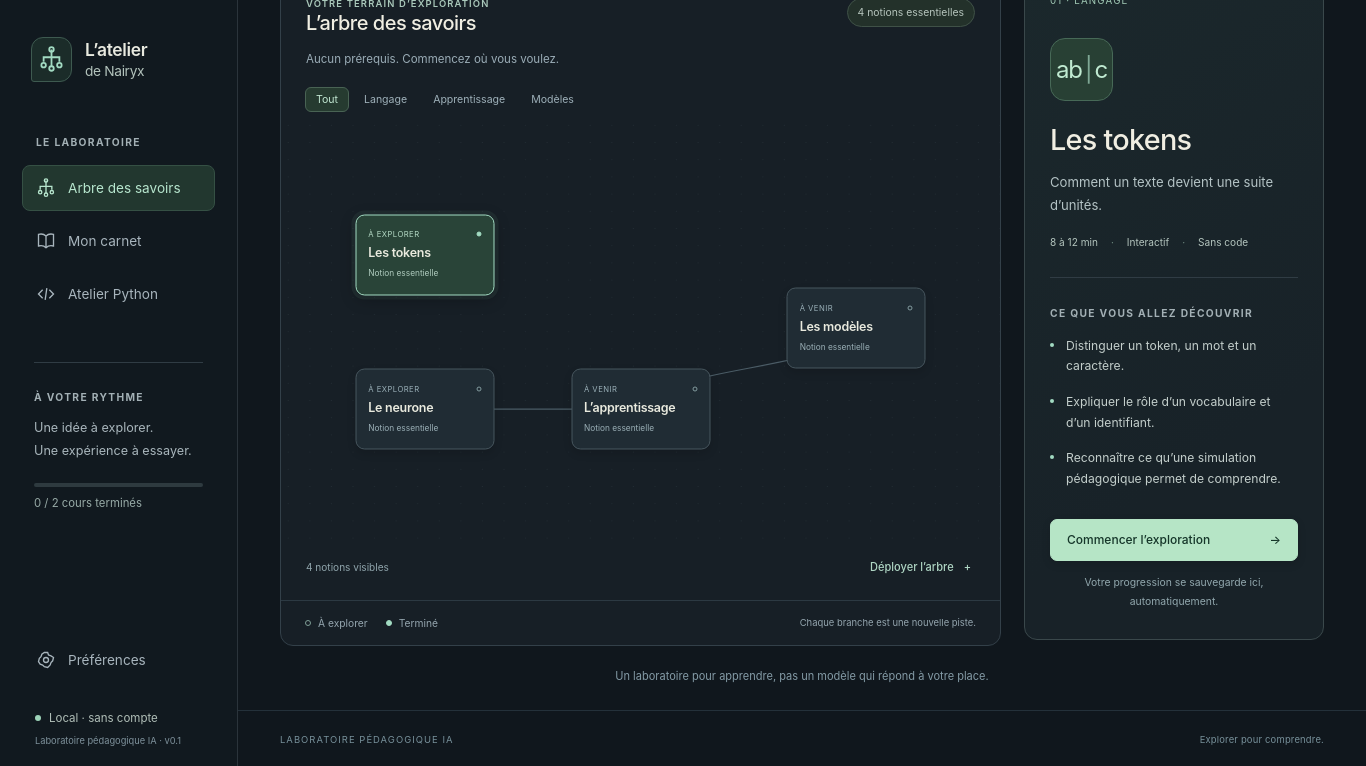
Test: ouvre le cours et retourne une carte
(page scrolled)
What coordinates should you click on to do the following:
click the button "Commencer l’exploration →"
I would click on:
 (1174, 540)
Its box is left=1050, top=520, right=1298, bottom=562.
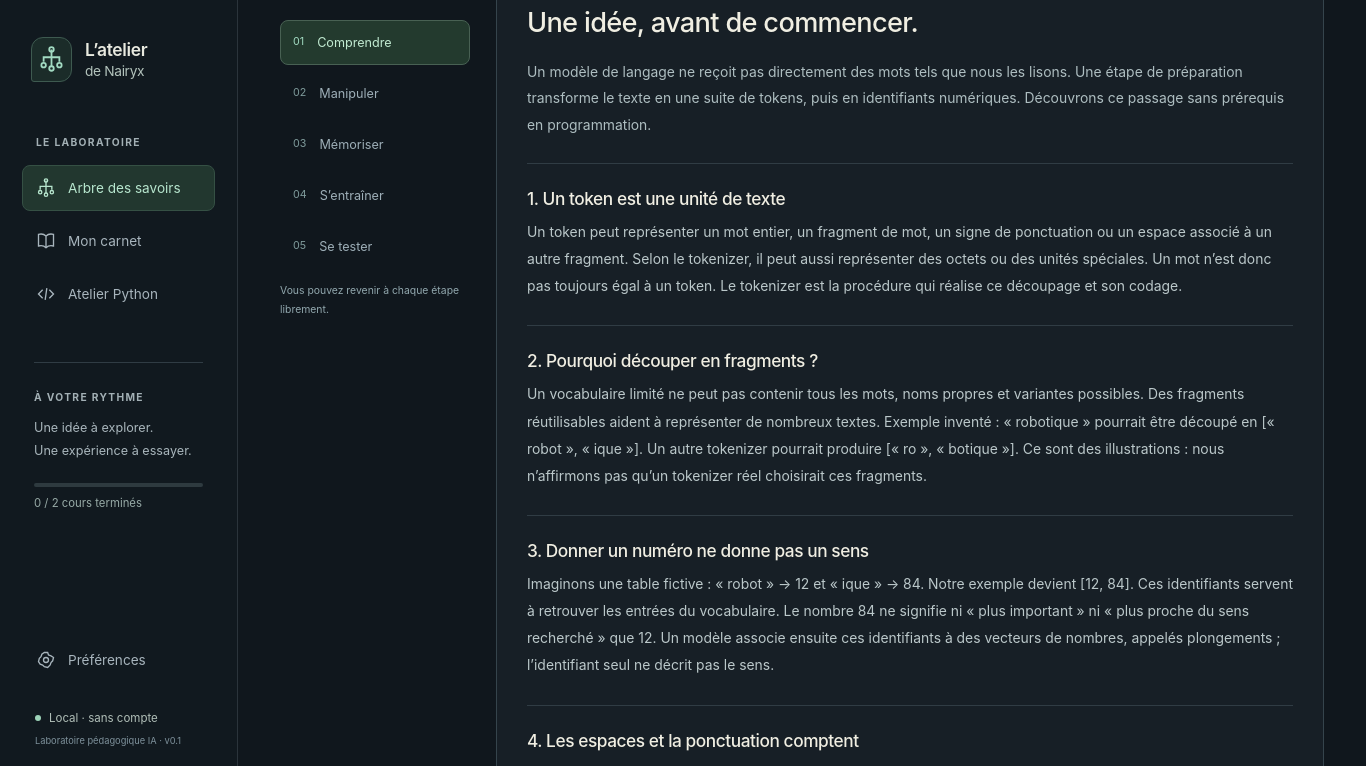
What coordinates should you click on to do the following:
click the button "03 Mémoriser"
I would click on:
 (375, 144)
Its box is left=280, top=122, right=470, bottom=167.
(page scrolled)
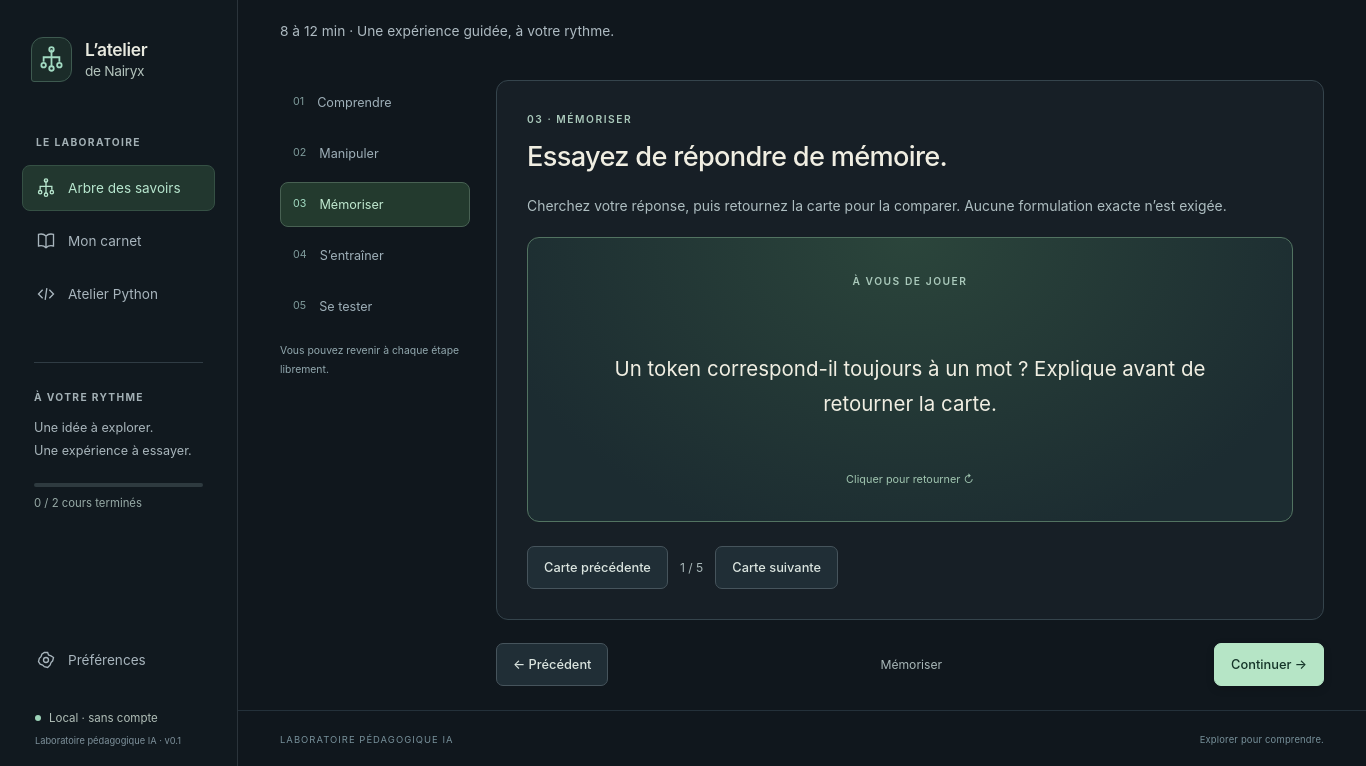
Now the text "Un token correspond-il toujours à un mot ? Explique avant de retourner la carte." is shown, box left=595, top=352, right=1225, bottom=422
What coordinates should you click on to do the following:
click the button with aria-label "Retourner la carte"
I would click on:
 (910, 380)
Its box is left=527, top=237, right=1293, bottom=522.
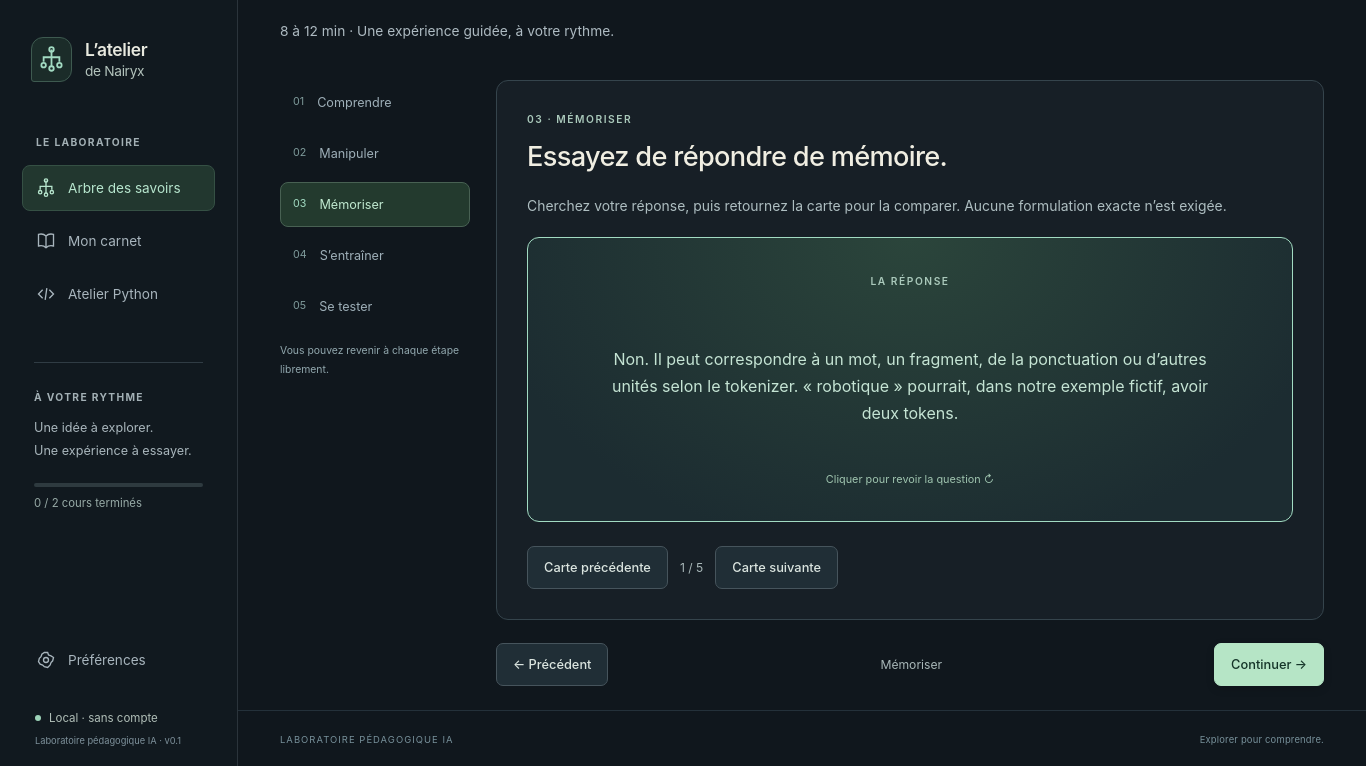
Now the text "Non. Il peut correspondre à un mot, un fragment, de la ponctuation ou d’autres unités selon le tokenizer. « robotique » " is shown, box left=612, top=349, right=1208, bottom=423
